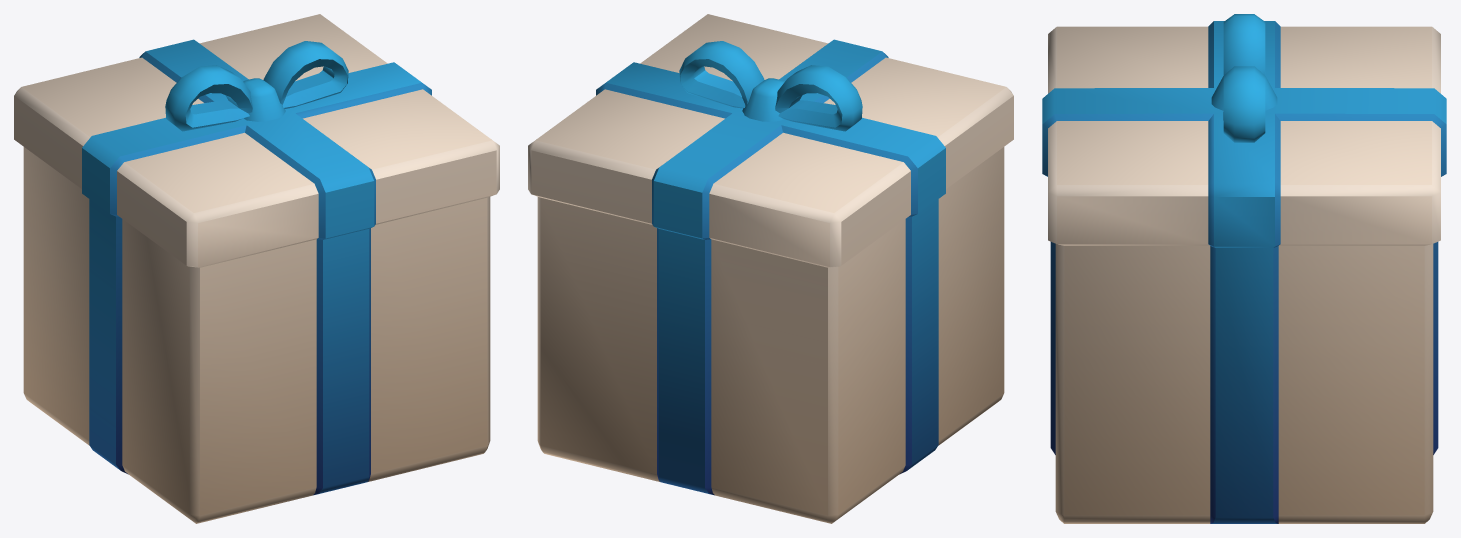
File: present_D_white.obj
3 renders of one model, left to right at view 1: azimuth 30°, elevation 25°; view 2: azimuth 150°, elevation 25°; view 3: azimuth 270°, elevation 25°, orthographic. The views are drawn at different scales.
Parts seen in each view (by area): view 1: present_D_white; view 2: present_D_white; view 3: present_D_white.
Part boxes in pixels (x1,y1,x2,y2): present_D_white: [14, 14, 499, 523]; present_D_white: [528, 14, 1013, 523]; present_D_white: [1042, 14, 1446, 523].
Size of the model in its own units: 0.9638 by 1.06 by 0.9638.
1 material, 1 textured.
